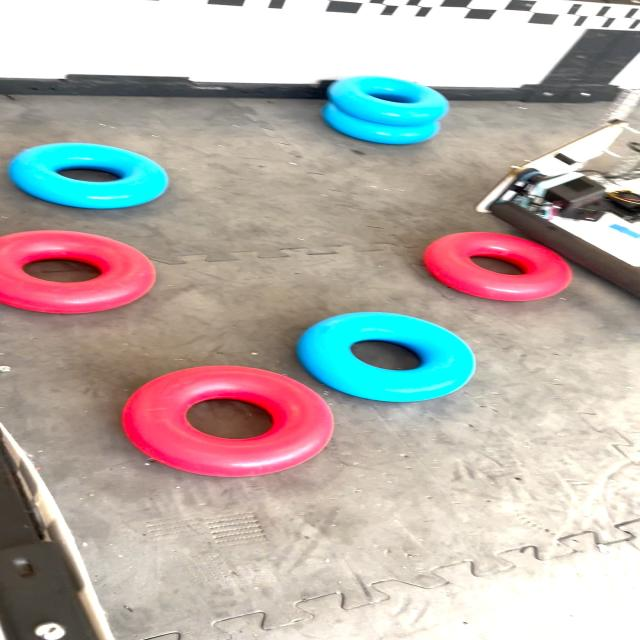Blue-Ring: (298, 312, 476, 401), (9, 142, 169, 209), (329, 76, 449, 126), (322, 102, 440, 145)
Red-Ring: (122, 366, 333, 477), (0, 230, 156, 314), (424, 232, 571, 301)
